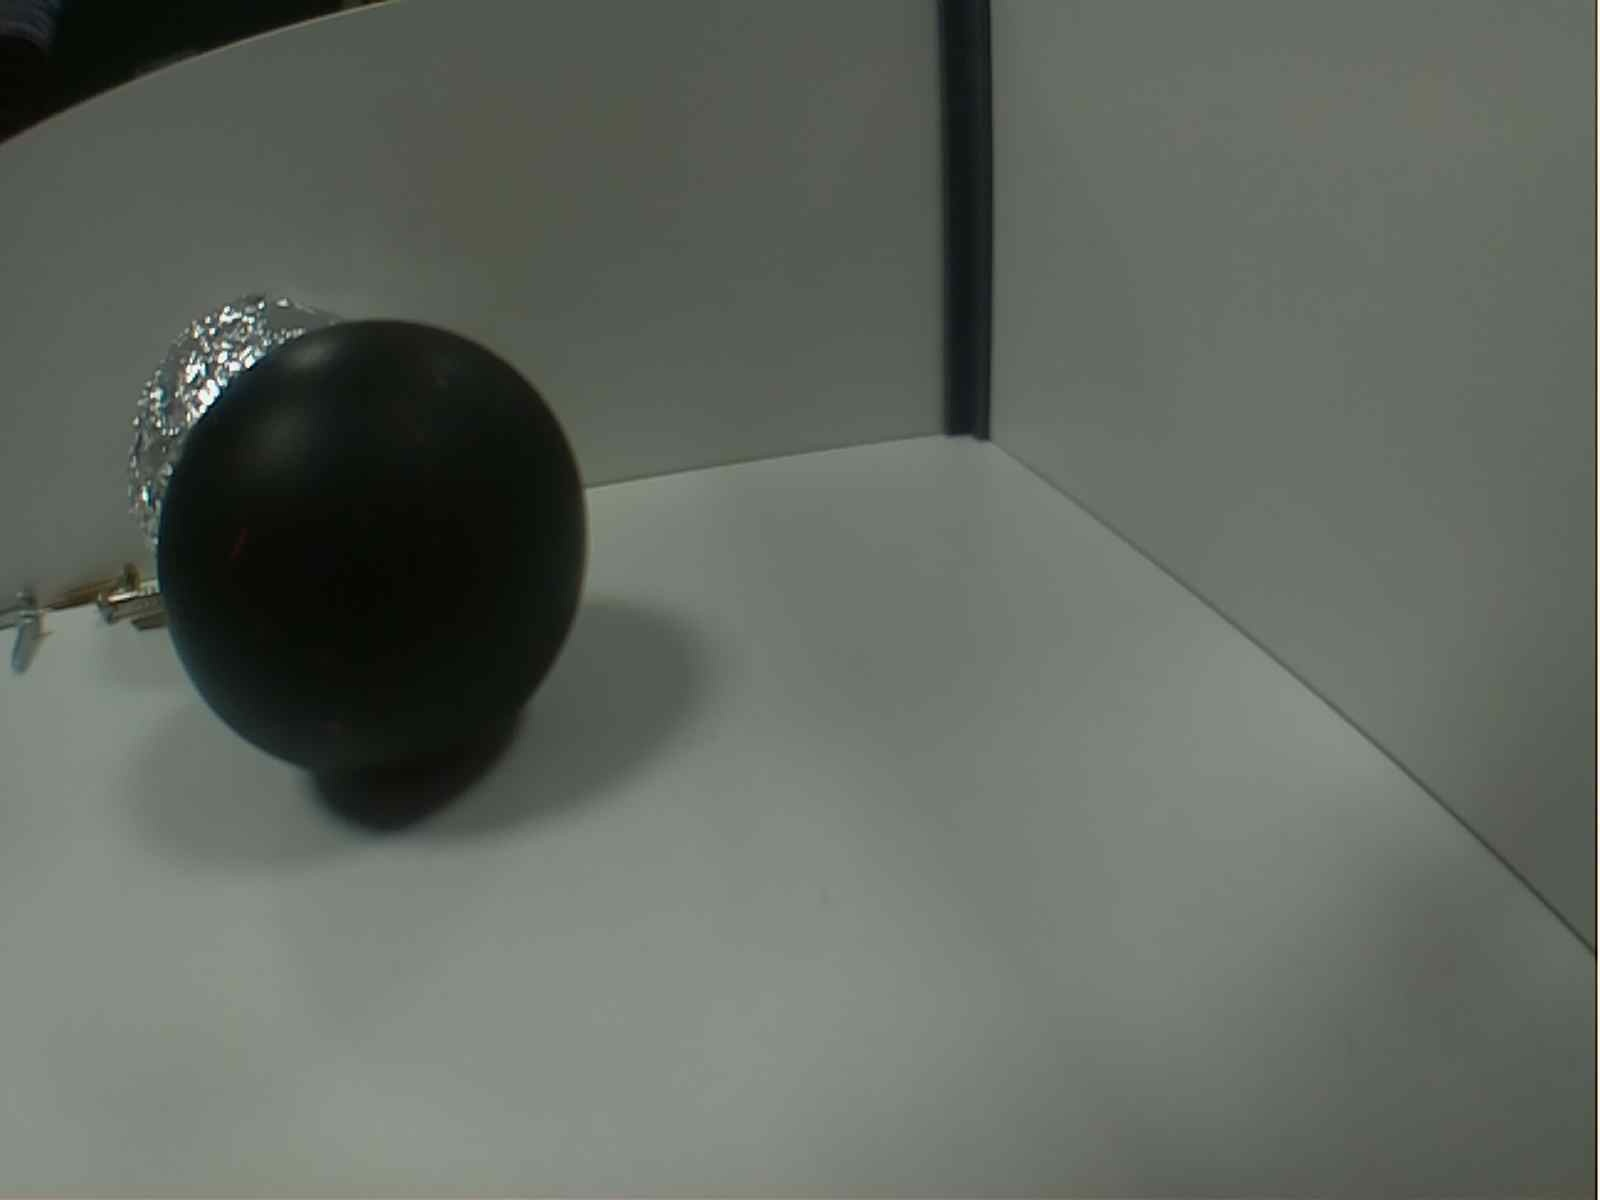bianca: (123, 286, 350, 550)
nera: (146, 318, 596, 779)
